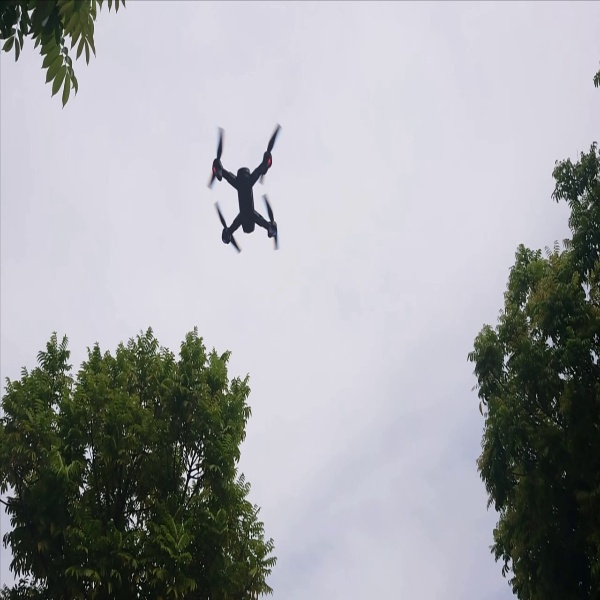drone: (194, 116, 292, 258)
